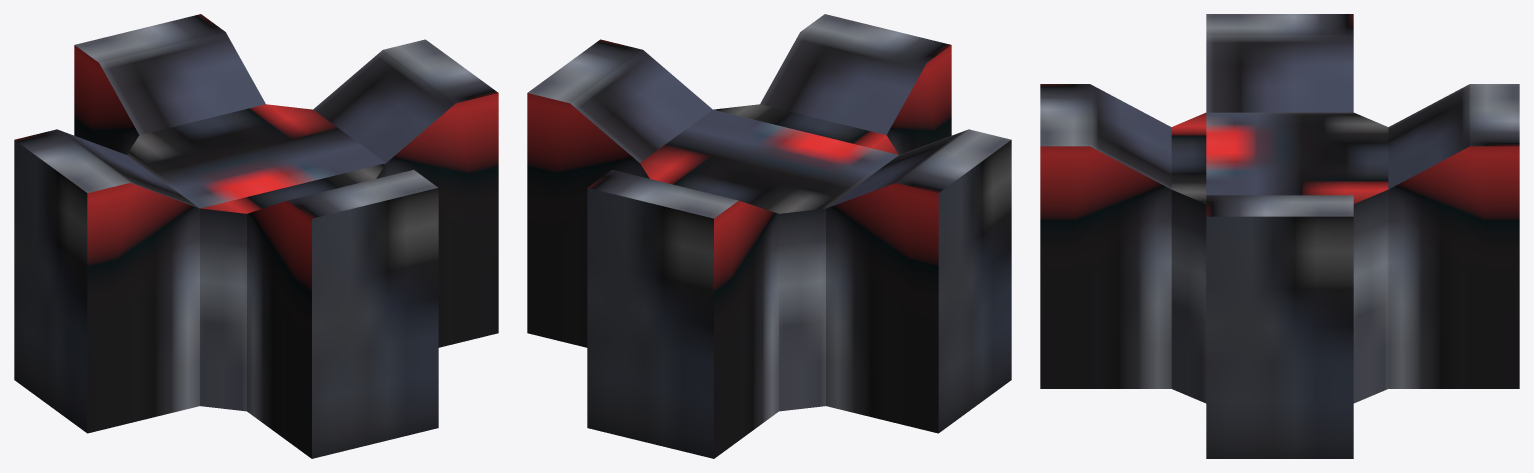
Rendered from armdrag_red.glb.
The picture shows the model from 3 angles, left to right: view 1: azimuth 30°, elevation 25°; view 2: azimuth 150°, elevation 25°; view 3: azimuth 270°, elevation 25°; orthographic projection.
Parts seen in each view (by area): view 1: base; view 2: base; view 3: base.
Boxes of the visible parts, left/top/right/bottom form: base: left=14, top=14, right=498, bottom=458; base: left=527, top=14, right=1011, bottom=458; base: left=1040, top=14, right=1519, bottom=458.
Bounding box in the file's own units: 30.45 × 17.01 × 30.45.
Materials: 1 (1 with a texture image).
